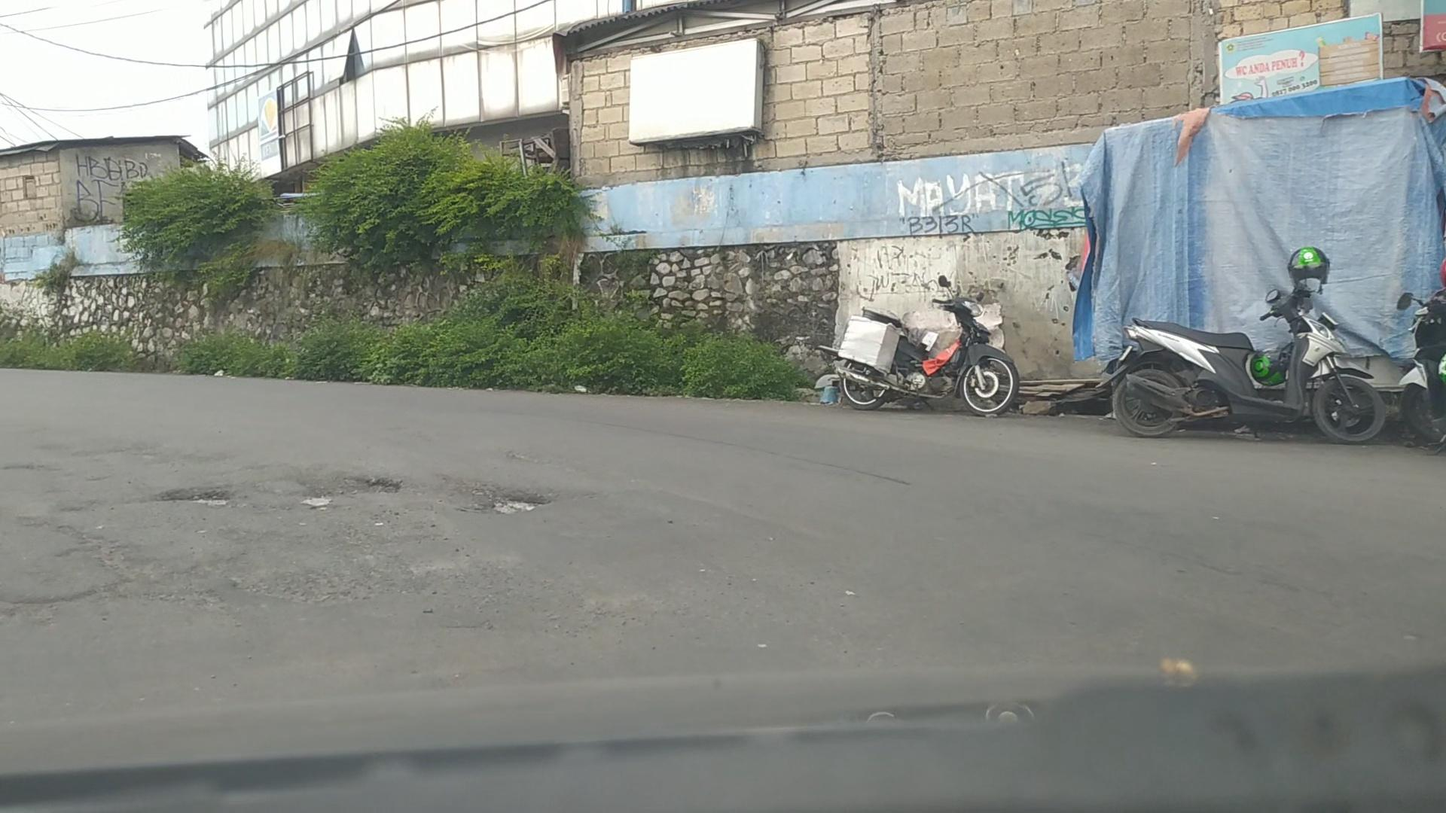pothole: (293, 475, 398, 509), (476, 490, 548, 515), (157, 488, 235, 507)
